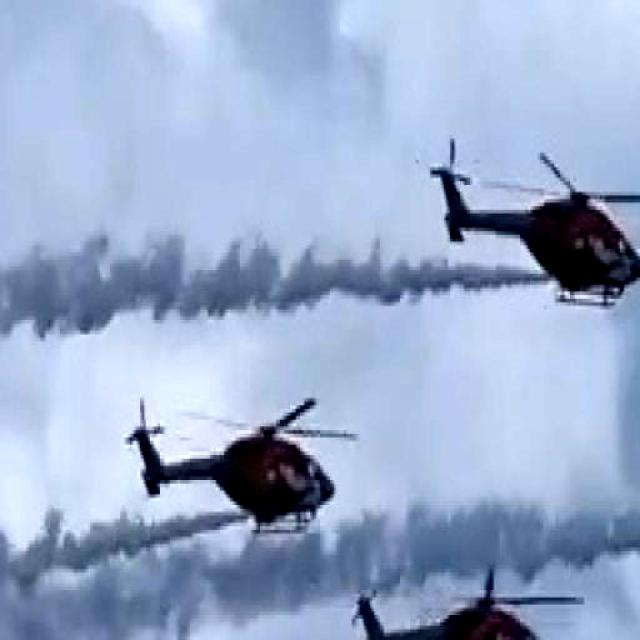drone: (418, 92, 640, 324), (115, 404, 365, 546), (325, 542, 595, 640)
